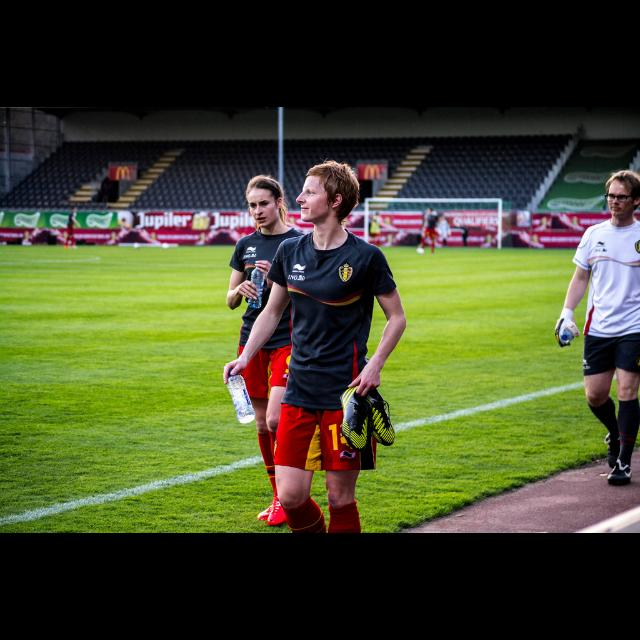Football: (133, 242, 139, 248)
